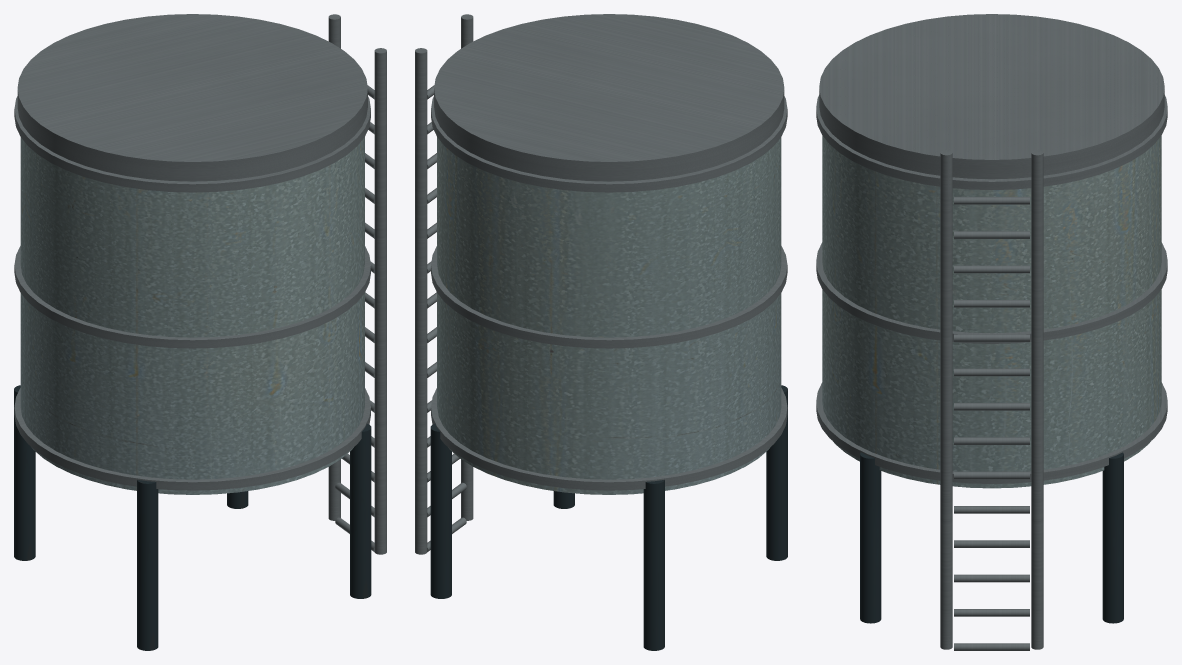
The model's file is NC_WaterTank_LOD0.fbx.
3 views of the same model, side by side, from view 1: azimuth 30°, elevation 25°; view 2: azimuth 150°, elevation 25°; view 3: azimuth 270°, elevation 25° (orthographic).
Visible parts, largest first — view 1: NC_WaterTank_LOD0; view 2: NC_WaterTank_LOD0; view 3: NC_WaterTank_LOD0.
Boxes of the visible parts, bbox=[...] form: NC_WaterTank_LOD0: bbox=[14, 14, 386, 650]; NC_WaterTank_LOD0: bbox=[415, 14, 787, 650]; NC_WaterTank_LOD0: bbox=[816, 14, 1167, 650].
Size of the model in its own units: 244 by 363 by 232.
